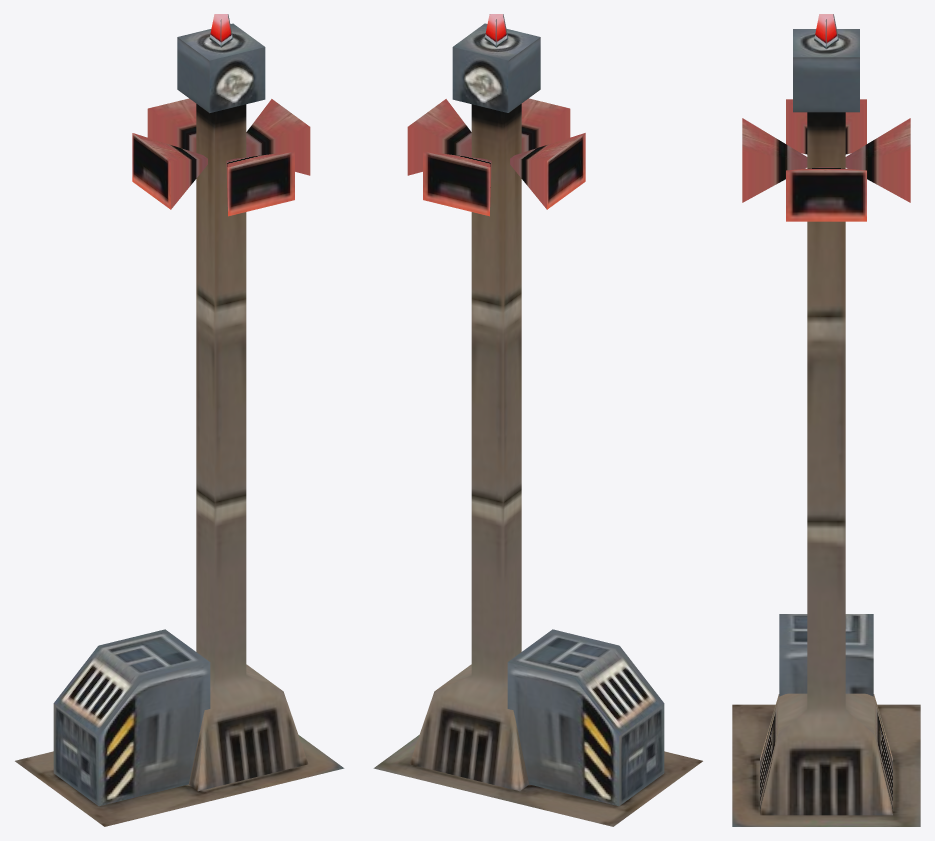
Rendered from perimeteralarm_hdtex.glb.
The picture shows the model from 3 angles, left to right: view 1: azimuth 30°, elevation 25°; view 2: azimuth 150°, elevation 25°; view 3: azimuth 270°, elevation 25°; orthographic projection. The views are drawn at different scales.
Visible parts, largest first — view 1: perimeteralarm, spinny, Beacon_Red; view 2: perimeteralarm, spinny, Beacon_Red; view 3: perimeteralarm, spinny, Beacon_Red.
Part boxes in pixels (<box>): perimeteralarm: <box>15,98,344,826</box>; spinny: <box>177,23,265,113</box>; Beacon_Red: <box>209,14,233,47</box>; perimeteralarm: <box>373,98,702,826</box>; spinny: <box>452,23,540,112</box>; Beacon_Red: <box>484,14,508,47</box>; perimeteralarm: <box>732,99,920,826</box>; spinny: <box>793,29,859,112</box>; Beacon_Red: <box>814,14,838,48</box>.
Bounding box in the file's own units: 5.35 × 15.75 × 3.49.
1 material, 1 textured.
